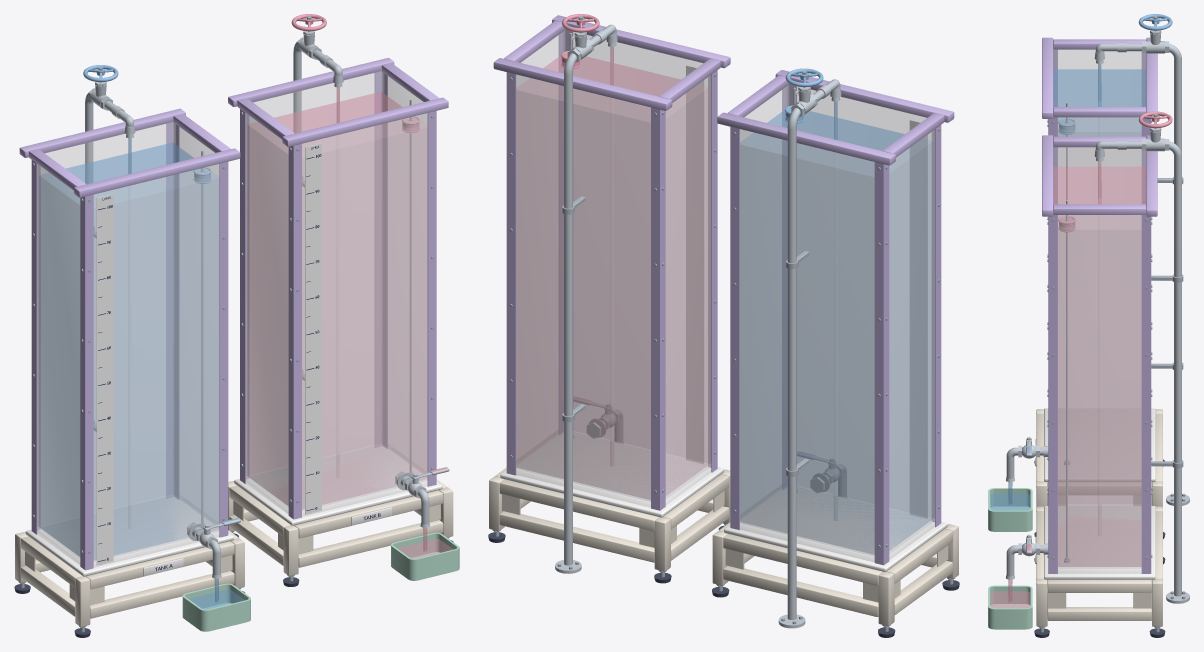
File: lines-tanks.glb
3 views of the same model, side by side, from view 1: azimuth 30°, elevation 25°; view 2: azimuth 150°, elevation 25°; view 3: azimuth 270°, elevation 25° (orthographic). The views are drawn at different scales.
Visible parts, largest first — view 1: TANK_B_ACRYLIC, TANK_A_ACRYLIC, TANK_B_WATER, TANK_A_WATER, TANK_A_FRAME, TANK_B_FRAME, TANK_A_STAND, TANK_B_STAND, TANK_B_BASE_PAN, TANK_A_BASE_PAN, TANK_A_SCALE, TANK_B_SCALE (+8 smaller); view 2: TANK_A_ACRYLIC, TANK_B_ACRYLIC, TANK_B_WATER, TANK_A_WATER, TANK_A_FRAME, TANK_B_FRAME, TANK_A_STAND, TANK_B_STAND, TANK_A_BASE_PAN, TANK_B_BASE_PAN, TANK_A_SCALE, TANK_B_SCALE (+2 smaller); view 3: TANK_B_ACRYLIC, TANK_B_WATER, TANK_B_FRAME, TANK_A_ACRYLIC, TANK_B_BASE_PAN, TANK_A_BASE_PAN, TANK_B_STAND, TANK_A_WATER, TANK_B_INLET_PIPE, TANK_A_FRAME, TANK_A_STAND, TANK_B_TROUGH (+12 smaller).
Boxes of the visible parts, <box> form: TANK_B_ACRYLIC: <box>246,71,427,516</box>; TANK_A_ACRYLIC: <box>37,122,219,567</box>; TANK_B_WATER: <box>248,91,427,509</box>; TANK_A_WATER: <box>39,142,218,559</box>; TANK_A_FRAME: <box>19,108,240,570</box>; TANK_B_FRAME: <box>228,58,448,519</box>; TANK_A_STAND: <box>15,495,244,626</box>; TANK_B_STAND: <box>228,444,453,576</box>; TANK_B_BASE_PAN: <box>234,446,442,525</box>; TANK_A_BASE_PAN: <box>25,497,233,576</box>; TANK_A_SCALE: <box>96,194,113,565</box>; TANK_B_SCALE: <box>305,143,321,514</box>; TANK_A_ACRYLIC: <box>740,84,934,561</box>; TANK_B_ACRYLIC: <box>516,29,711,507</box>; TANK_B_WATER: <box>516,55,709,499</box>; TANK_A_WATER: <box>740,110,932,553</box>; TANK_A_FRAME: <box>717,70,954,565</box>; TANK_B_FRAME: <box>493,15,730,510</box>; TANK_A_STAND: <box>712,485,958,626</box>; TANK_B_STAND: <box>489,430,730,571</box>; TANK_A_BASE_PAN: <box>724,487,947,571</box>; TANK_B_BASE_PAN: <box>500,432,723,517</box>; TANK_A_SCALE: <box>909,120,927,518</box>; TANK_B_SCALE: <box>686,65,703,463</box>; TANK_B_ACRYLIC: <box>1053,147,1145,573</box>; TANK_B_WATER: <box>1053,166,1145,566</box>; TANK_B_FRAME: <box>1042,135,1157,573</box>; TANK_A_ACRYLIC: <box>1053,49,1145,166</box>; TANK_B_BASE_PAN: <box>1044,506,1155,579</box>; TANK_A_BASE_PAN: <box>1044,408,1155,481</box>; TANK_B_STAND: <box>1036,506,1162,626</box>; TANK_A_WATER: <box>1053,69,1145,136</box>; TANK_B_INLET_PIPE: <box>1095,140,1189,603</box>; TANK_A_FRAME: <box>1042,37,1157,136</box>; TANK_A_STAND: <box>1036,409,1162,507</box>; TANK_B_TROUGH: <box>988,585,1032,629</box>.
Bounding box in the file's own units: 1.12 × 1.44 × 0.542.
